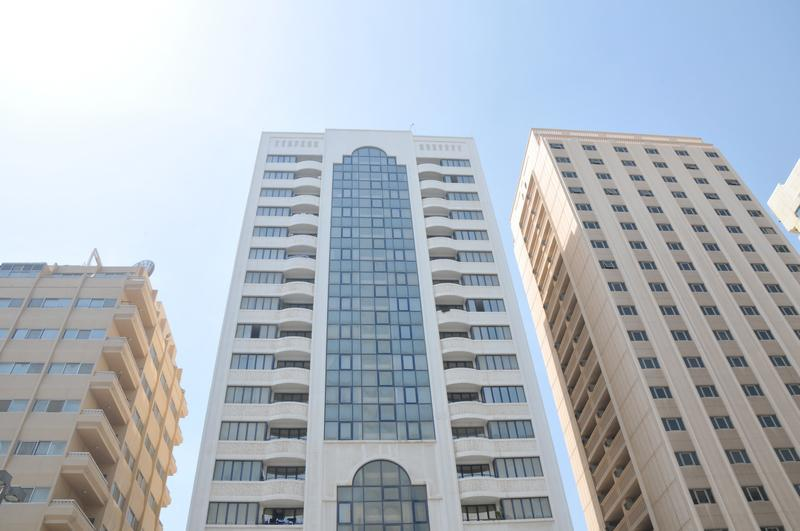affected: (184, 126, 492, 531), (0, 218, 186, 531), (1, 0, 1, 1)
